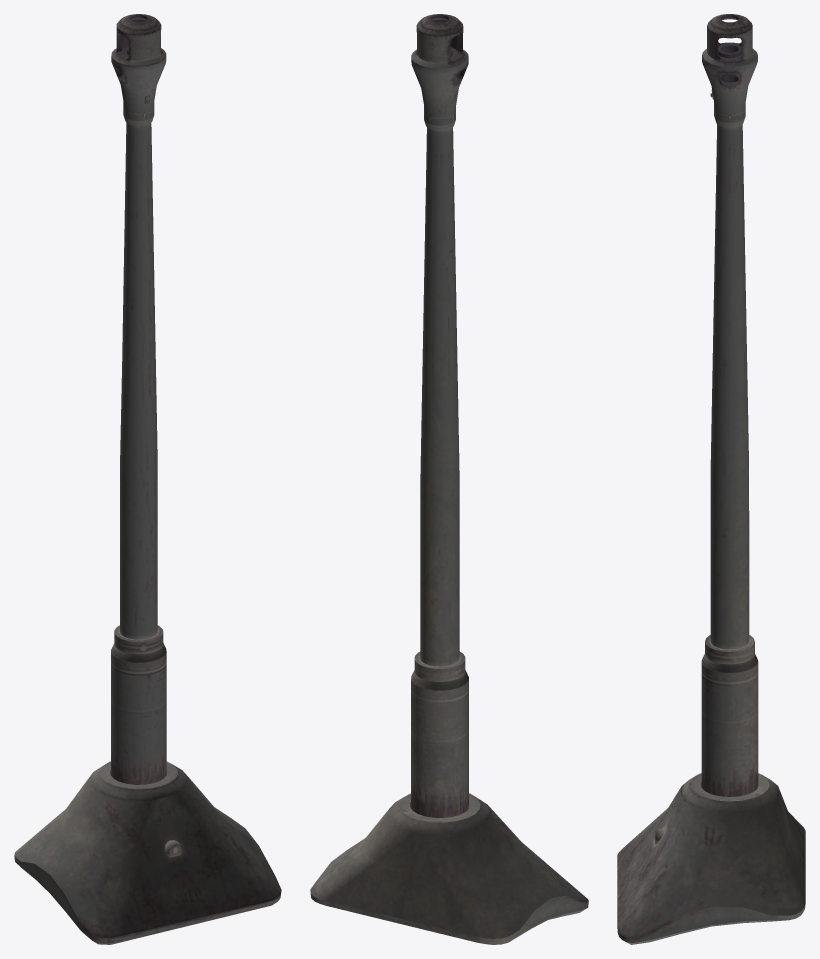
The model's file is Gun_01.glb.
The picture shows the model from 3 angles, left to right: view 1: azimuth 30°, elevation 25°; view 2: azimuth 150°, elevation 25°; view 3: azimuth 270°, elevation 25°; orthographic projection. The views are drawn at different scales.
Visible parts, largest first — view 1: set_0_group_0; view 2: set_0_group_0; view 3: set_0_group_0.
Boxes of the visible parts, bbox=[...] form: set_0_group_0: bbox=[14, 14, 281, 944]; set_0_group_0: bbox=[310, 14, 588, 944]; set_0_group_0: bbox=[617, 14, 805, 944].
Bounding box in the file's own units: 1.12 × 4.75 × 0.9184.
1 material, 1 textured.
